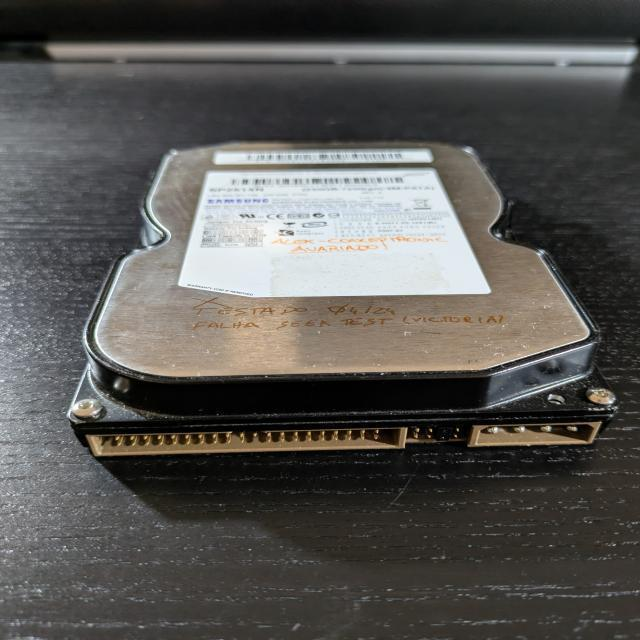DISK: (67, 139, 622, 460)
